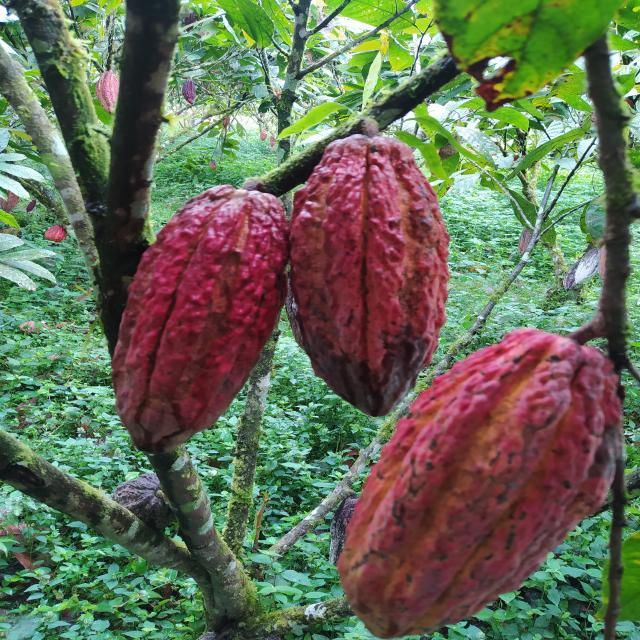Fitoftora: (286, 136, 452, 417), (574, 248, 601, 285), (563, 260, 583, 291), (210, 159, 218, 170)
Sana: (332, 328, 625, 639), (111, 187, 292, 455), (96, 70, 123, 114), (1, 182, 22, 213), (43, 225, 66, 244), (182, 78, 195, 104), (27, 200, 38, 212), (260, 128, 268, 141), (270, 136, 275, 147)
